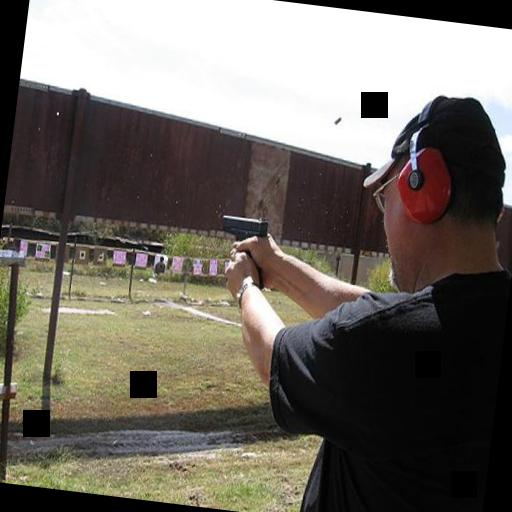Handgun: (212, 209, 272, 288)
